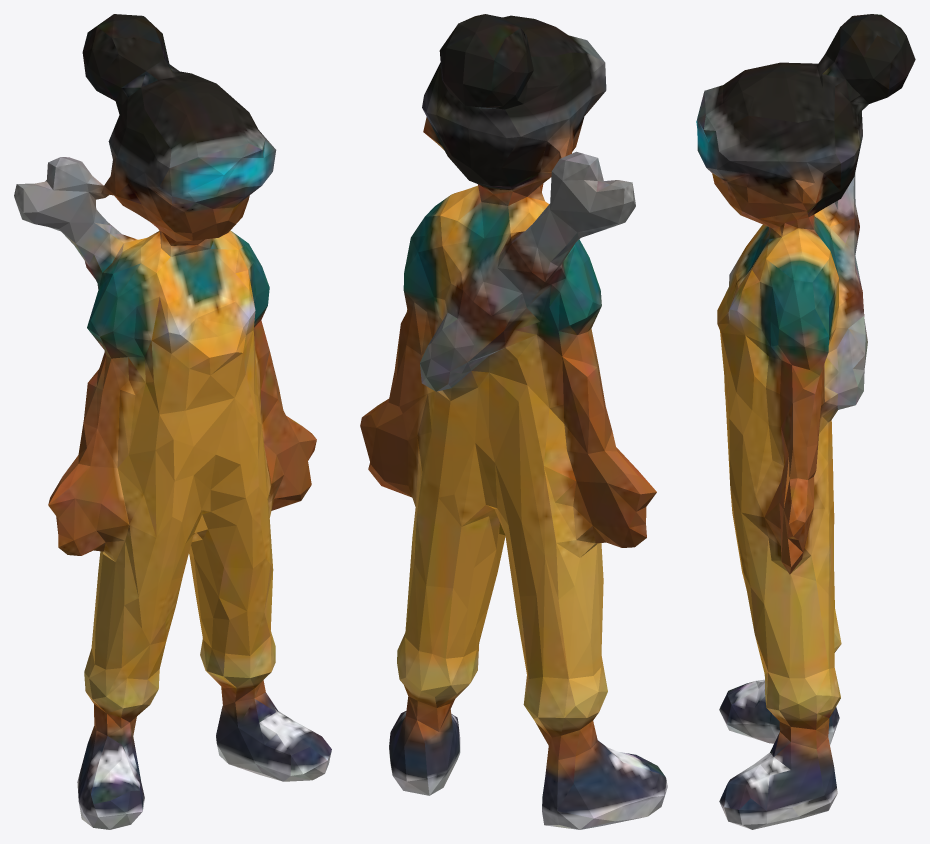
File: equipier-loin.glb
3 views of the same model, side by side, from view 1: azimuth 30°, elevation 25°; view 2: azimuth 150°, elevation 25°; view 3: azimuth 270°, elevation 25° (orthographic). The views are drawn at different scales.
Parts seen in each view (by area): view 1: habitant; view 2: habitant; view 3: habitant.
Boxes of the visible parts, box(x1,y1,x2,y2) form: habitant: box(14, 14, 331, 829); habitant: box(360, 14, 667, 829); habitant: box(696, 14, 915, 829).
Bounding box in the file's own units: 0.3873 × 1.01 × 0.2678.
1 material, 1 textured.
